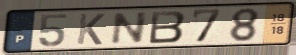5: (37, 12, 69, 48)
7: (191, 8, 224, 45)
8: (229, 7, 262, 43)
B: (148, 9, 188, 45)
K: (75, 12, 107, 46)
N: (109, 11, 151, 46)
